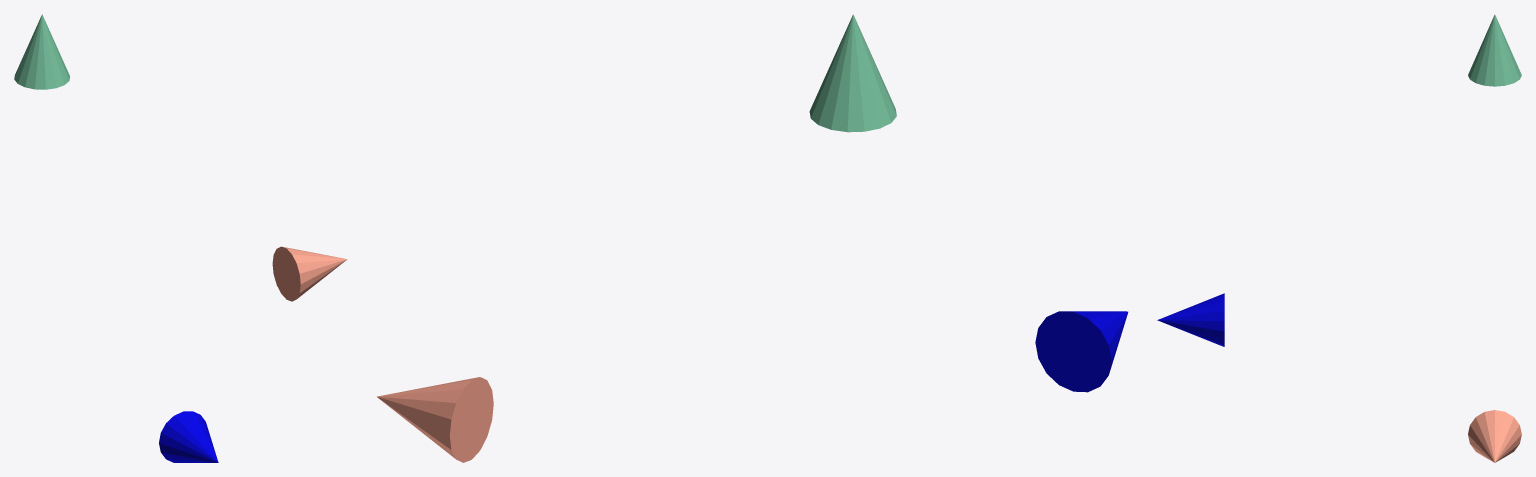
3 renders of one model, left to right at view 1: azimuth 30°, elevation 25°; view 2: azimuth 150°, elevation 25°; view 3: azimuth 270°, elevation 25°, orthographic. The views are drawn at different scales.
Visible parts, largest first — view 1: Renderer Node; view 2: Renderer Node; view 3: Renderer Node.
Part boxes in pixels (x1=…): Renderer Node: x1=14, y1=14, x2=347, y2=462; Renderer Node: x1=377, y1=14, x2=1128, y2=462; Renderer Node: x1=1157, y1=14, x2=1521, y2=462.
Bounding box in the file's own units: 1.08 × 1.08 × 1.08.
